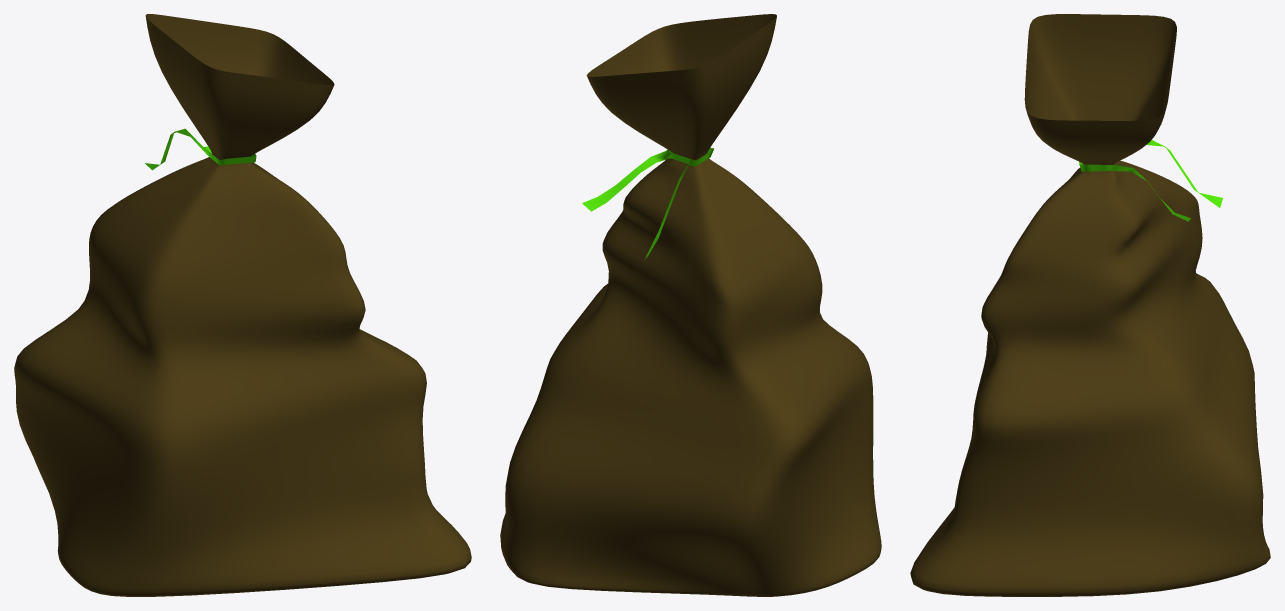
The model's file is Sack.fbx.
3 views of the same model, side by side, from view 1: azimuth 30°, elevation 25°; view 2: azimuth 150°, elevation 25°; view 3: azimuth 270°, elevation 25° (orthographic). The views are drawn at different scales.
Visible parts, largest first — view 1: Cube, Cube.001; view 2: Cube, Cube.001; view 3: Cube, Cube.001.
Boxes of the visible parts, <box> form: Cube: <box>14,14,471,596</box>; Cube.001: <box>145,128,256,170</box>; Cube: <box>500,14,881,596</box>; Cube.001: <box>582,147,713,259</box>; Cube: <box>910,14,1270,596</box>; Cube.001: <box>1079,140,1222,221</box>.
Bounding box in the file's own units: 328 × 488 × 326.
